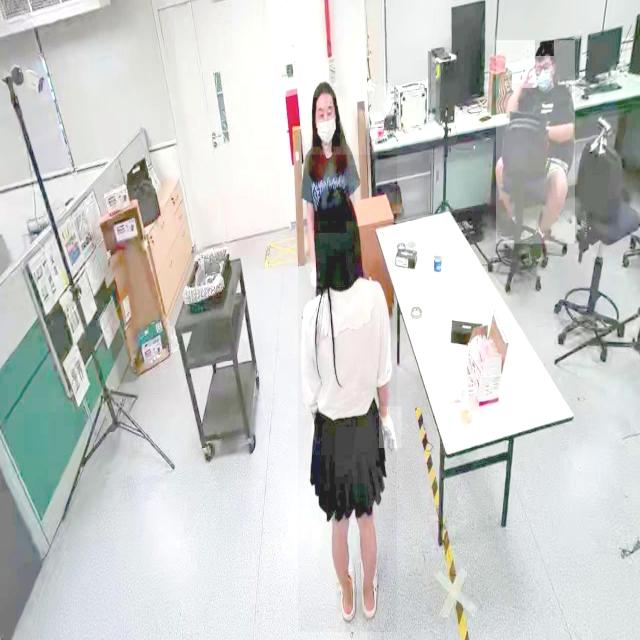face_mask: (313, 106, 340, 146), (534, 58, 552, 92)
hand_glove: (378, 406, 402, 449)
hand_noglove: (522, 59, 536, 89)
head_nohelmet: (314, 186, 354, 222), (313, 80, 338, 99), (534, 40, 554, 57)
person: (297, 155, 397, 633), (495, 40, 575, 244), (294, 85, 346, 233)
